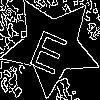E: (26, 21, 74, 76)
